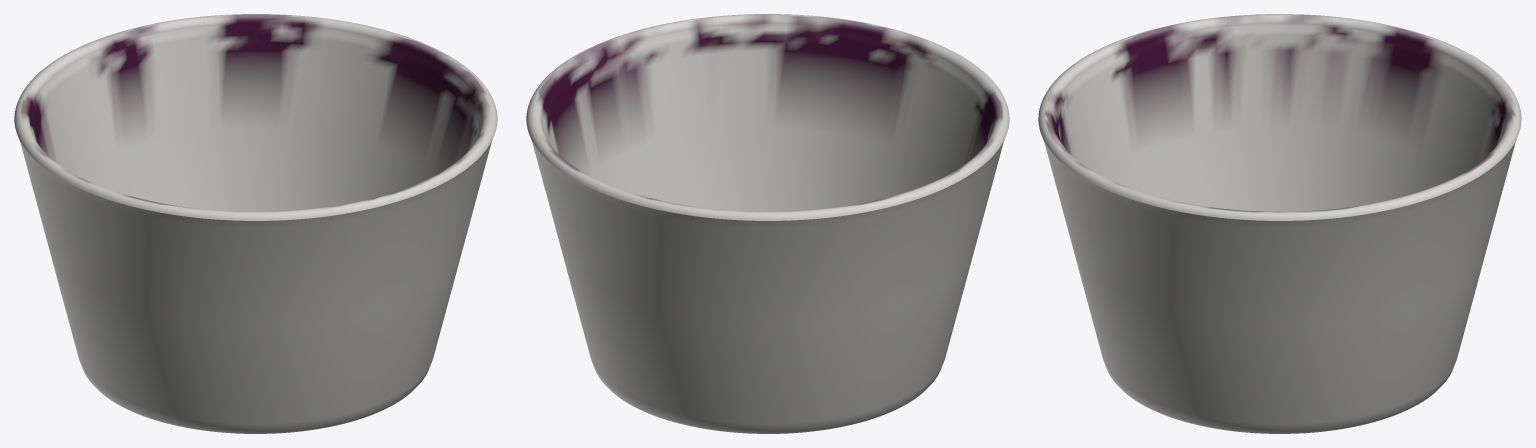
Rendered from container-isopor-g.glb.
The picture shows the model from 3 angles, left to right: view 1: azimuth 30°, elevation 25°; view 2: azimuth 150°, elevation 25°; view 3: azimuth 270°, elevation 25°; orthographic projection.
Parts seen in each view (by area): view 1: container-isopor-g; view 2: container-isopor-g; view 3: container-isopor-g.
Boxes of the visible parts, left/top/right/bottom form: container-isopor-g: left=14, top=14, right=497, bottom=433; container-isopor-g: left=526, top=14, right=1009, bottom=433; container-isopor-g: left=1038, top=14, right=1521, bottom=433.
Bounding box in the file's own units: 0.1378 × 0.078 × 0.1378.
